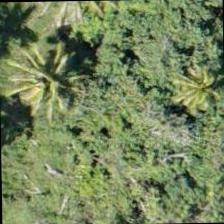Kelapa_Sawit: (4, 33, 96, 125), (150, 46, 224, 138)
